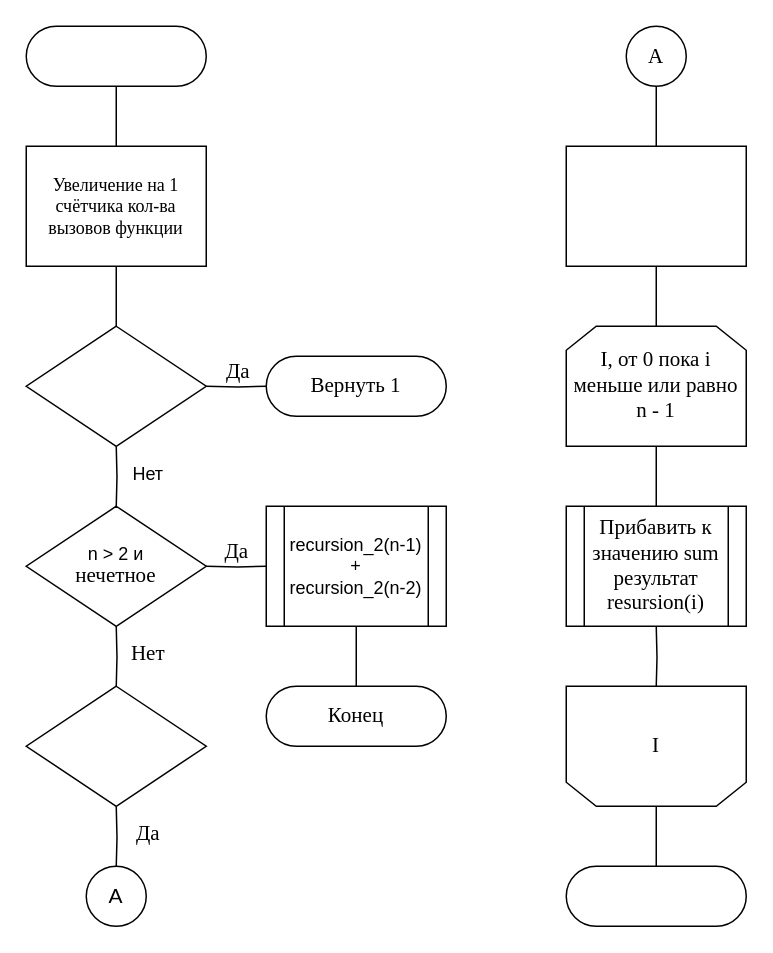
The diagram is 773 pixels wide and 953 high, and some of its shapes have lost their labels. Here are the shapes that lost their labels. From the top down, the box of each, then its label:
(25, 25, 206, 86): recursion(n)
(565, 145, 746, 266): Инициализация переменной sum
(25, 325, 206, 446): n < 3
(25, 685, 206, 806): n > 2 и четное
(565, 865, 746, 926): Вернуть sum
